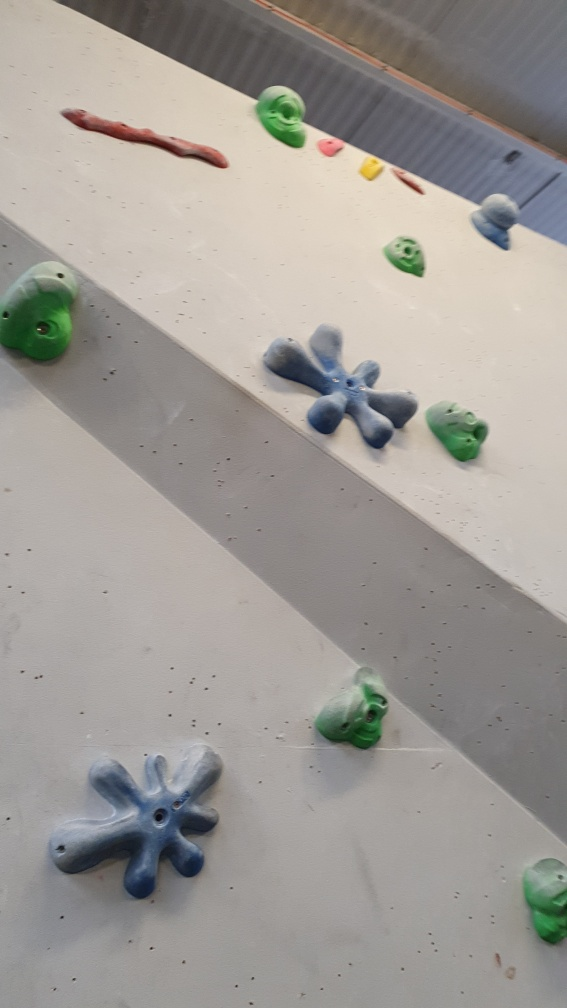Jug: (1, 262, 90, 365), (312, 661, 394, 753), (426, 400, 493, 470), (250, 79, 307, 151), (382, 235, 431, 282)
Octopus Pinch: (50, 740, 227, 897), (259, 317, 424, 456)
Sloper: (470, 188, 519, 255)
